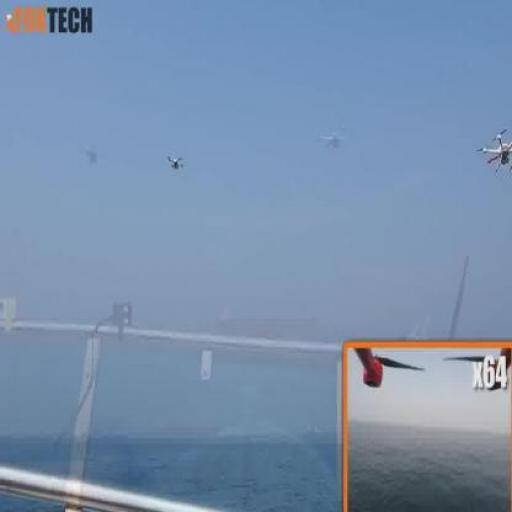drone: (476, 128, 512, 175), (167, 155, 185, 169)
